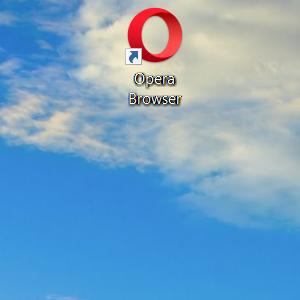opera: (125, 7, 183, 65)
